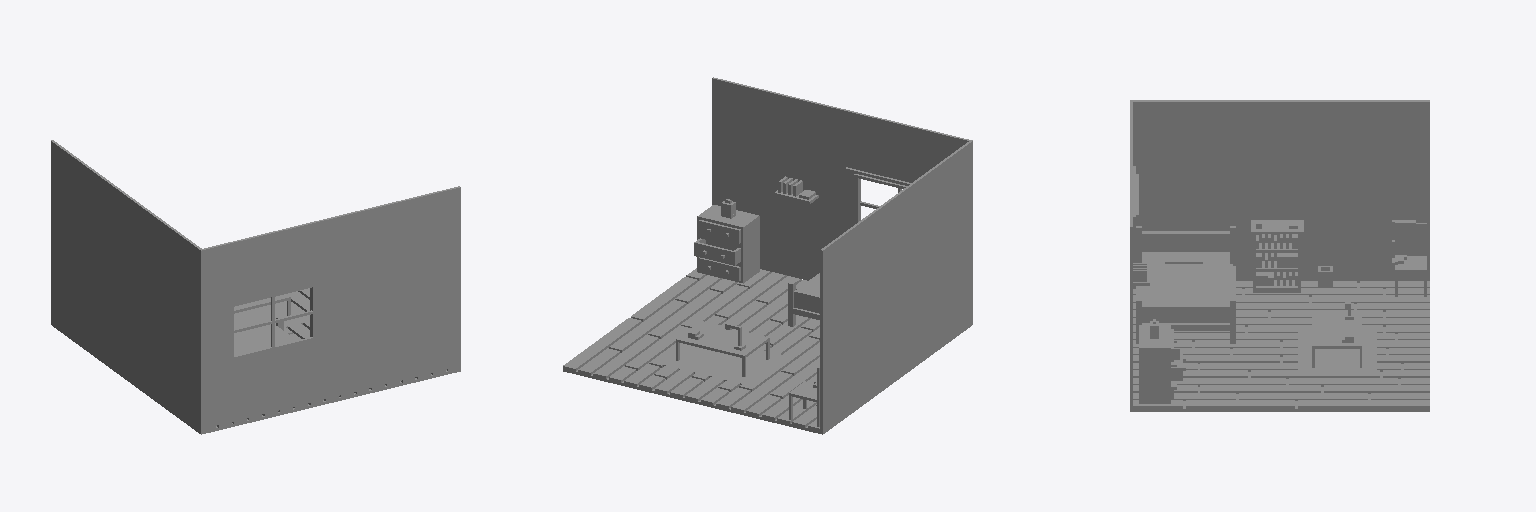
File: room--bake--cleaned.obj
3 renders of one model, left to right at view 1: azimuth 30°, elevation 25°; view 2: azimuth 150°, elevation 25°; view 3: azimuth 270°, elevation 25°, orthographic.
Visible parts, largest first — view 1: bedroom.merged_Plane-tex; view 2: bedroom.merged_Plane-tex; view 3: bedroom.merged_Plane-tex.
Boxes of the visible parts, x1,y1,x2,y2 form: bedroom.merged_Plane-tex: [51, 140, 460, 434]; bedroom.merged_Plane-tex: [563, 77, 972, 434]; bedroom.merged_Plane-tex: [1130, 100, 1429, 411].
Bounding box in the file's own units: 102 × 69 × 102.